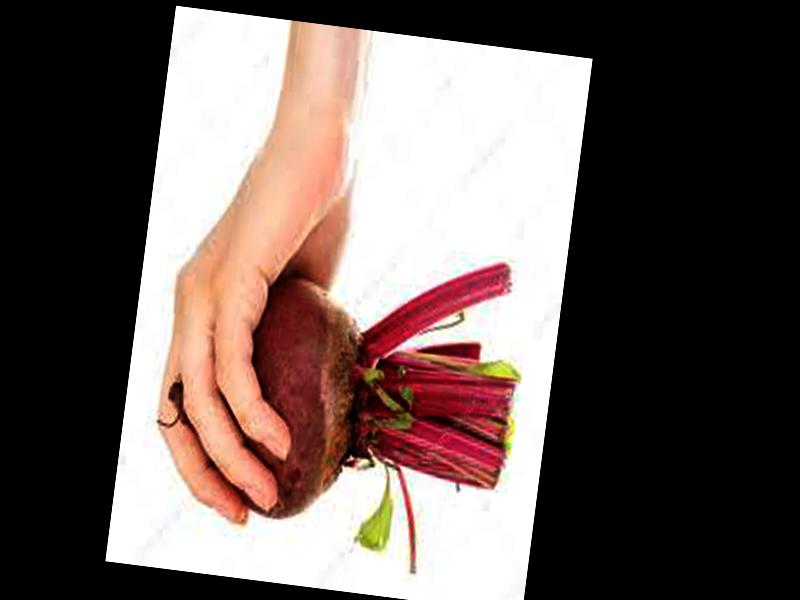Beet: (148, 223, 533, 583)
